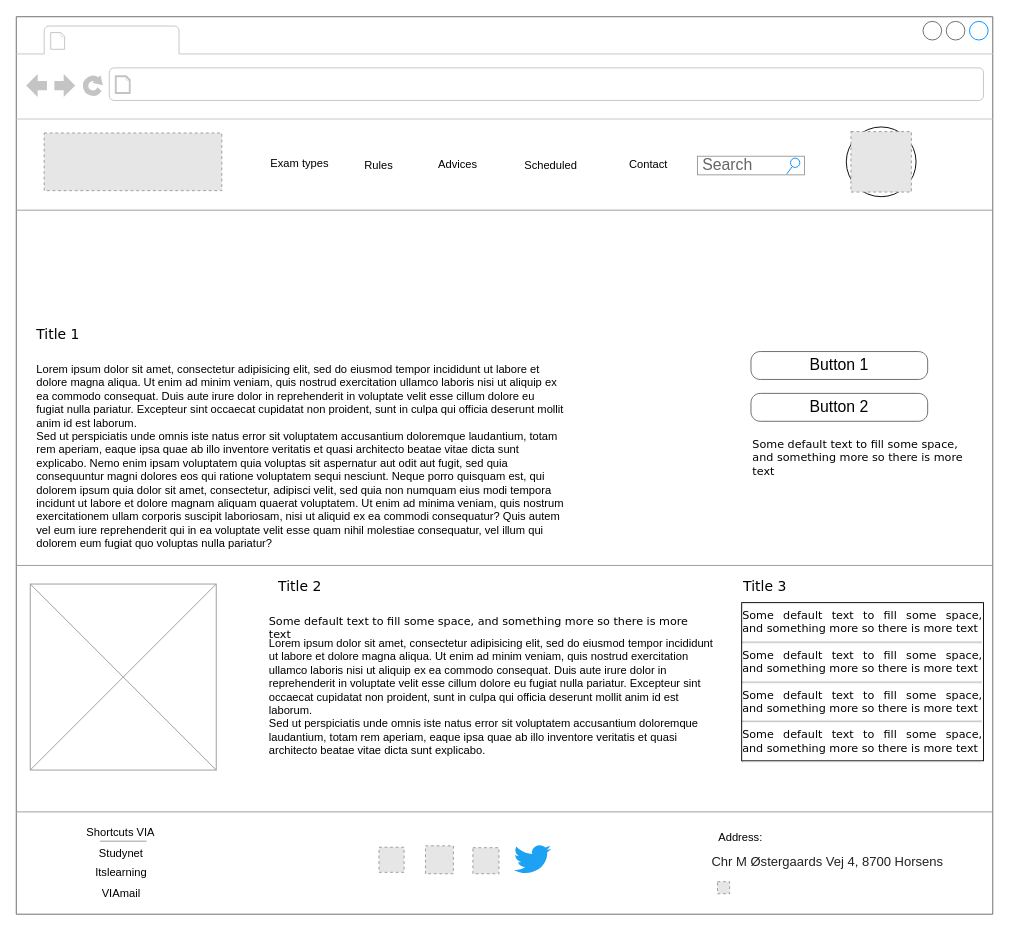
This 1009x930 diagram has some shape labels left out. Grey dashed boxes stand in for pictures. Here are the shapes that lost their labels. From the top down, the centre of each, then its label:
At [122,39]: "Exam Planner".
At [253,84]: "https://www.adoptaunbernardo.com".
